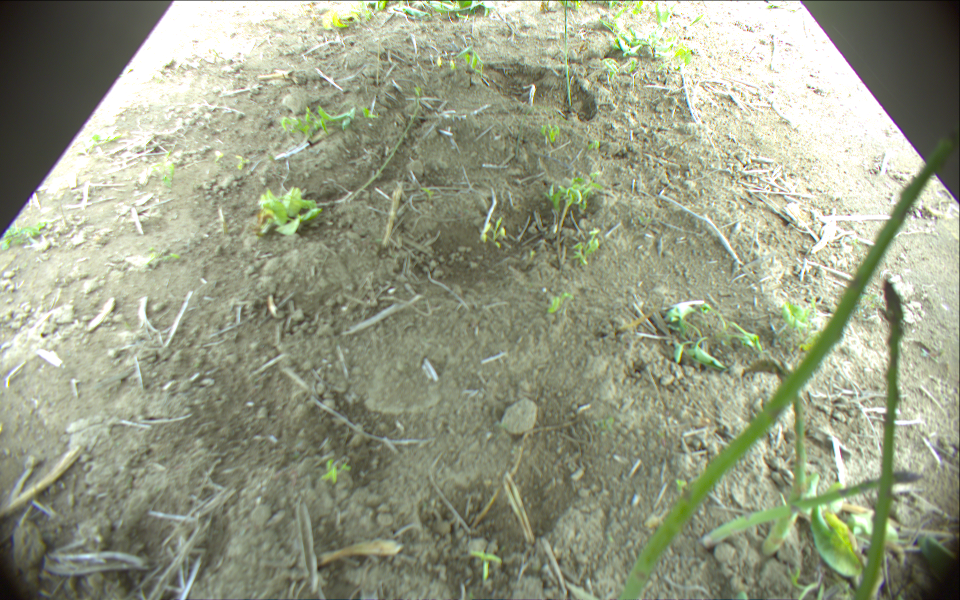aspa: (616, 119, 960, 600), (702, 471, 926, 548), (854, 277, 903, 600), (739, 359, 807, 556), (561, 1, 573, 108)
